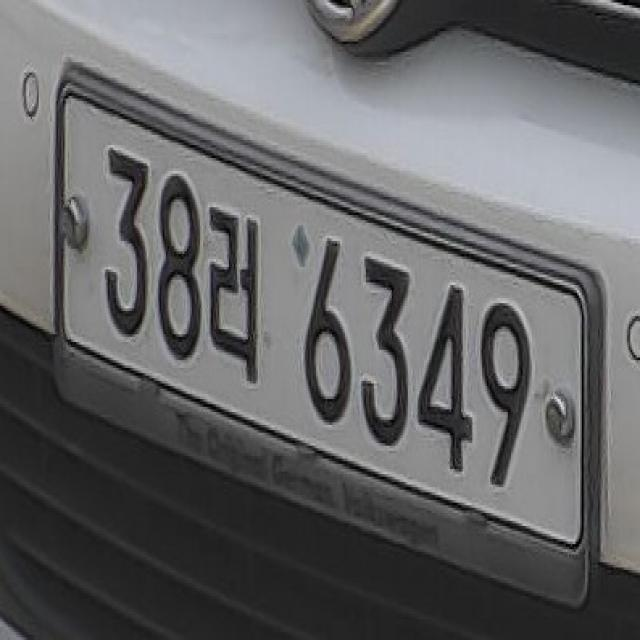3: (361, 252, 411, 454), (101, 143, 150, 342)
4: (413, 274, 472, 472)
6: (300, 231, 356, 425)
8: (153, 166, 206, 363)
9: (477, 293, 534, 495)
leo: (203, 200, 263, 386)
license_plate: (53, 83, 585, 554)
